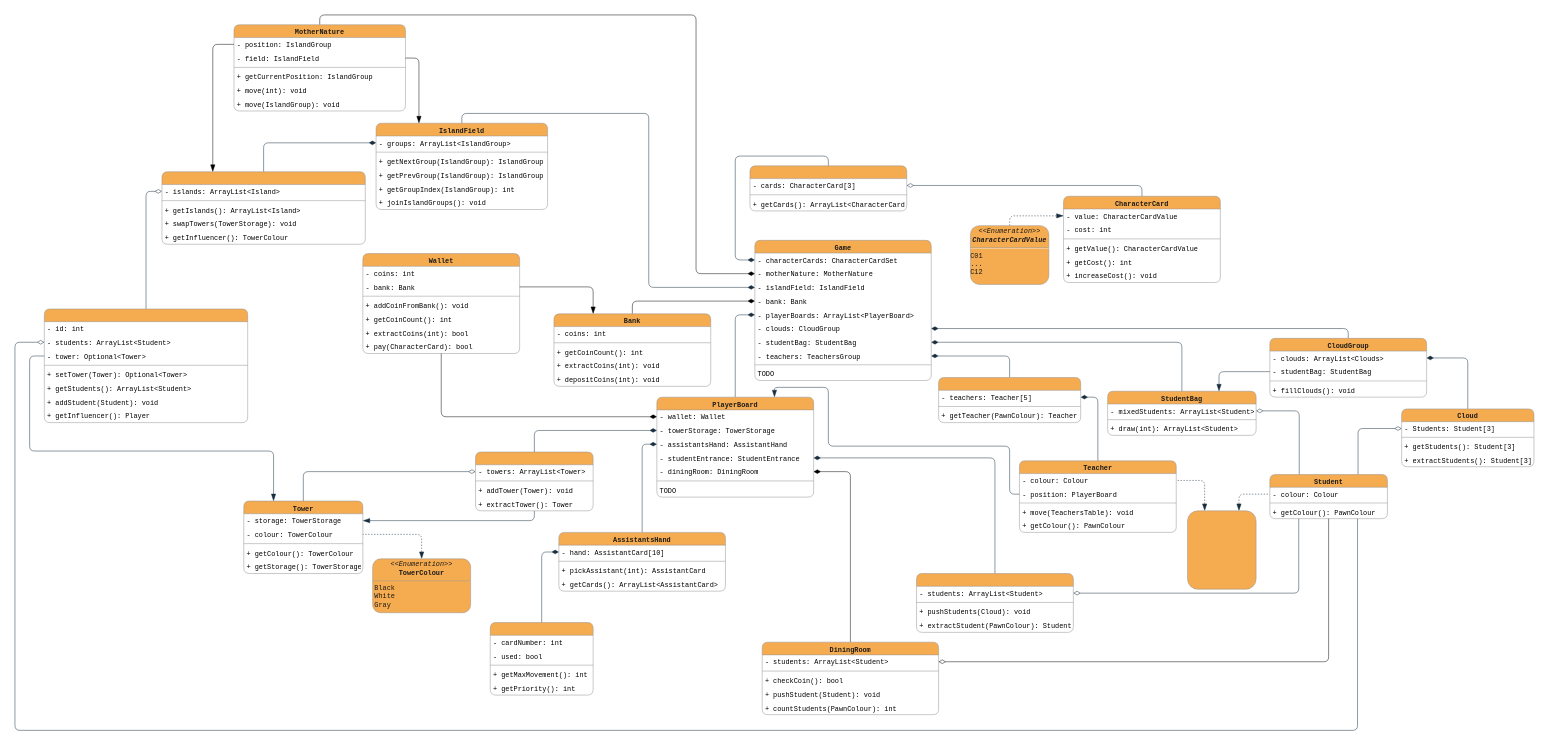
This 1543x746 diagram has some shape labels left out. The shapes that lost their labels are listed below. From the top down, each one's box as (x1, y1, x2, y2) in pixels, then its label:
(161, 171, 365, 244): IslandGroup
(749, 165, 907, 211): CharacterCardSet
(44, 308, 248, 423): Island
(938, 377, 1081, 423): TeachersGroup
(475, 452, 593, 511): TowerStorage
(1187, 510, 1256, 589): <<Enumeration>> PawnColour BLUE GREEN PINK RED YELLOW
(916, 573, 1073, 632): StudentEntrance
(490, 622, 593, 695): AssistantCard
